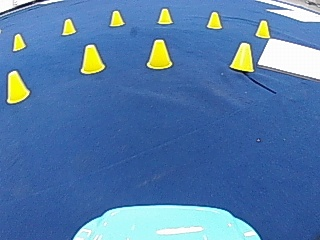cone: (5, 69, 30, 103), (145, 38, 173, 68), (229, 41, 254, 71), (80, 43, 105, 73), (206, 10, 222, 29), (254, 19, 270, 38), (156, 7, 173, 24), (61, 17, 76, 35), (109, 9, 124, 26), (12, 33, 26, 51)
